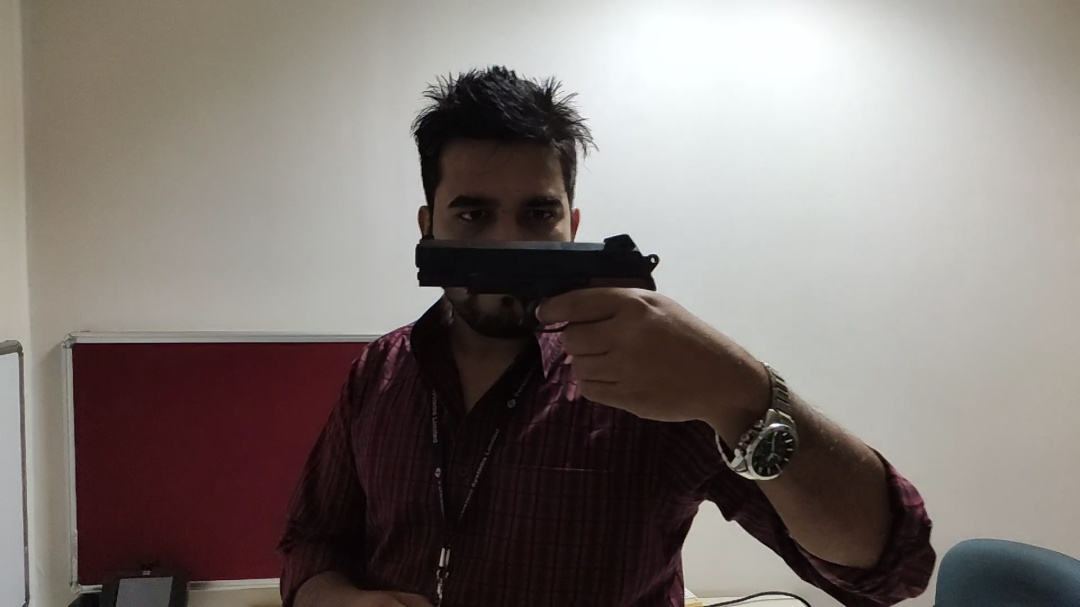gun: (414, 232, 660, 421)
